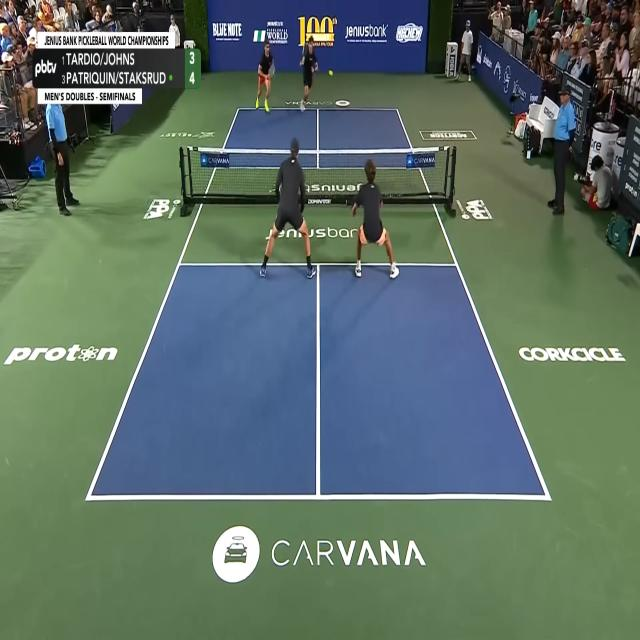ball: (328, 69, 333, 76)
